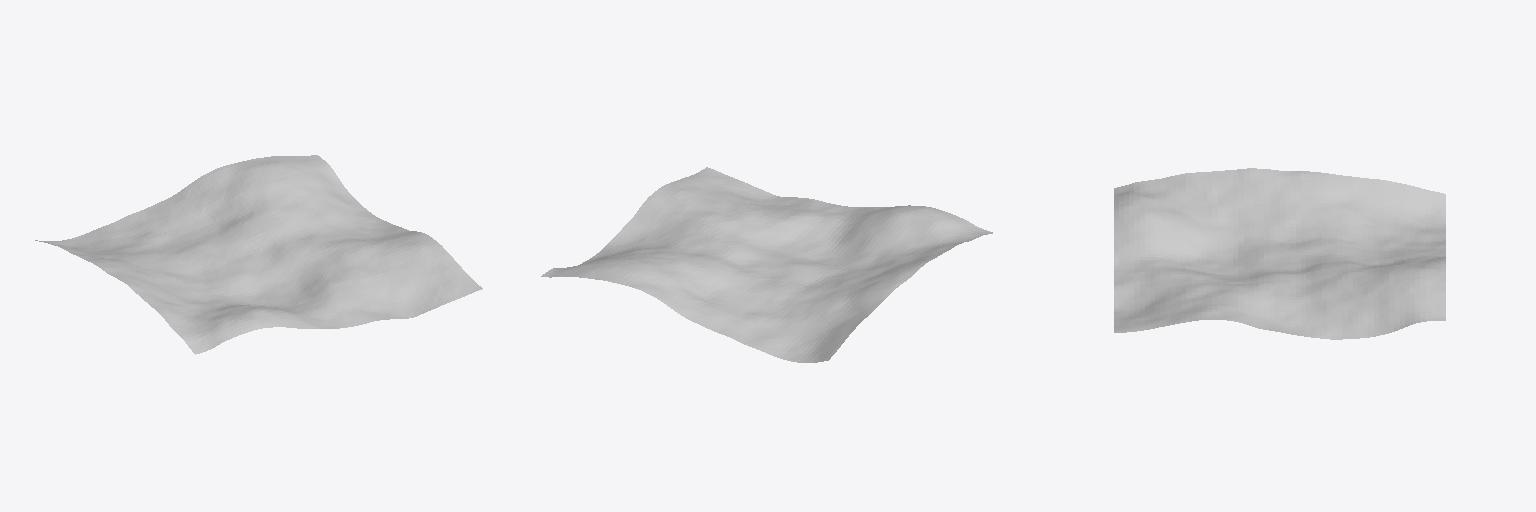
File: ground.obj
The picture shows the model from 3 angles: view 1: azimuth 30°, elevation 25°; view 2: azimuth 150°, elevation 25°; view 3: azimuth 270°, elevation 25°; orthographic projection.
Parts seen in each view (by area): view 1: Plane; view 2: Plane; view 3: Plane.
Boxes of the visible parts, <box> form: Plane: <box>35,155,482,354</box>; Plane: <box>541,167,992,362</box>; Plane: <box>1114,168,1445,339</box>.
Size of the model in its own units: 24.95 by 3.13 by 24.95.